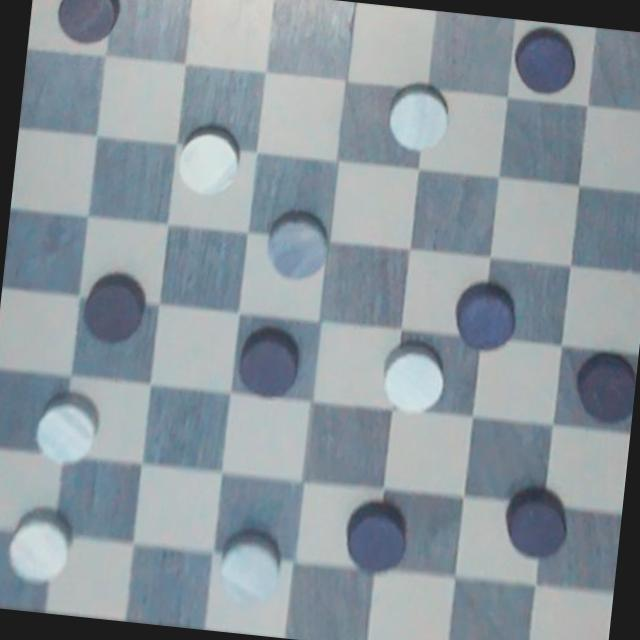BOARD: (0, 0, 640, 640)
black: (502, 24, 583, 110), (447, 278, 542, 350), (338, 500, 417, 584), (226, 322, 306, 402), (562, 347, 638, 428), (74, 274, 158, 345), (500, 484, 574, 561), (53, 0, 122, 50)
white: (198, 530, 298, 606), (18, 390, 109, 472), (168, 121, 253, 203), (371, 342, 458, 422), (258, 199, 338, 283), (377, 80, 463, 154), (0, 514, 75, 594)
